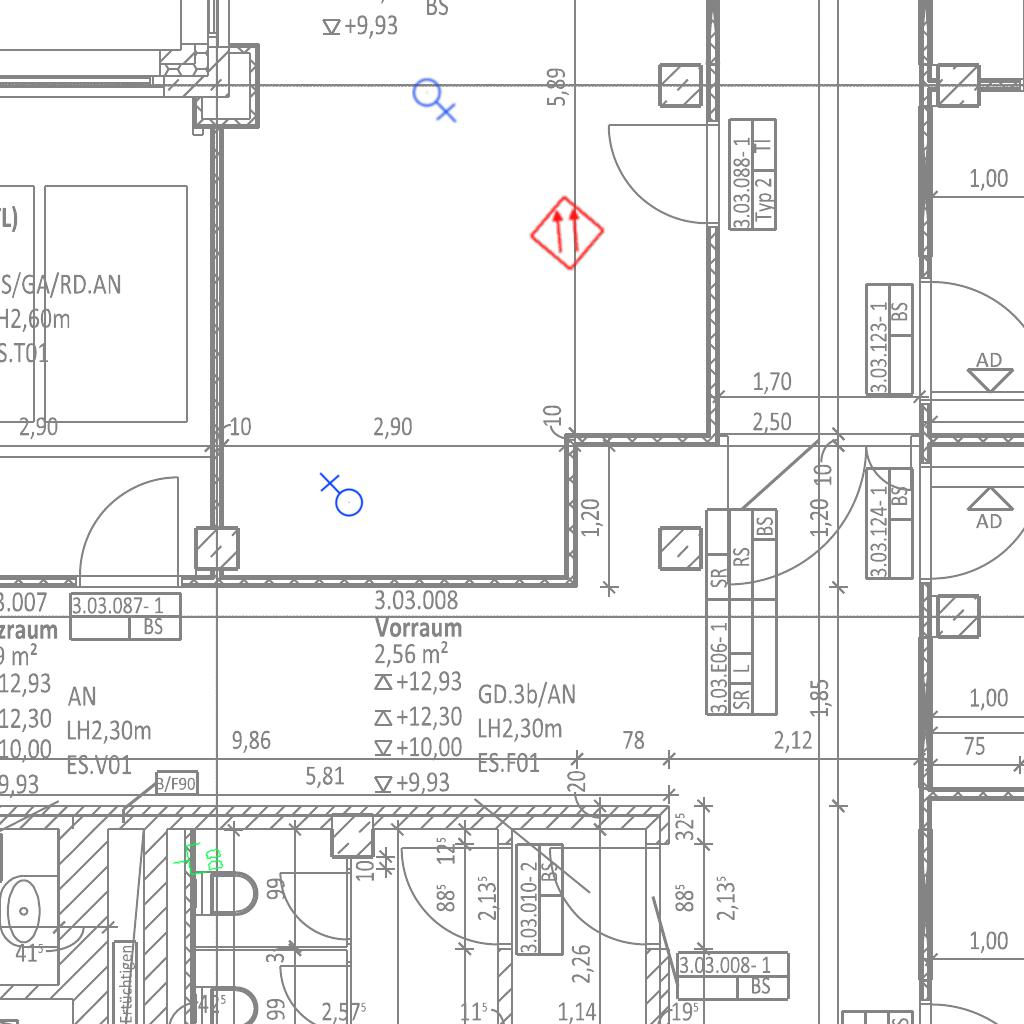Datenanschluss_zweifach: (169, 837, 226, 881)
Elektroanschluss_allgemein_230V_Geraeteanschlussdose_230V: (412, 74, 459, 123), (317, 472, 364, 521)
RMO_Rauchmelder_optischer: (527, 193, 607, 273)
